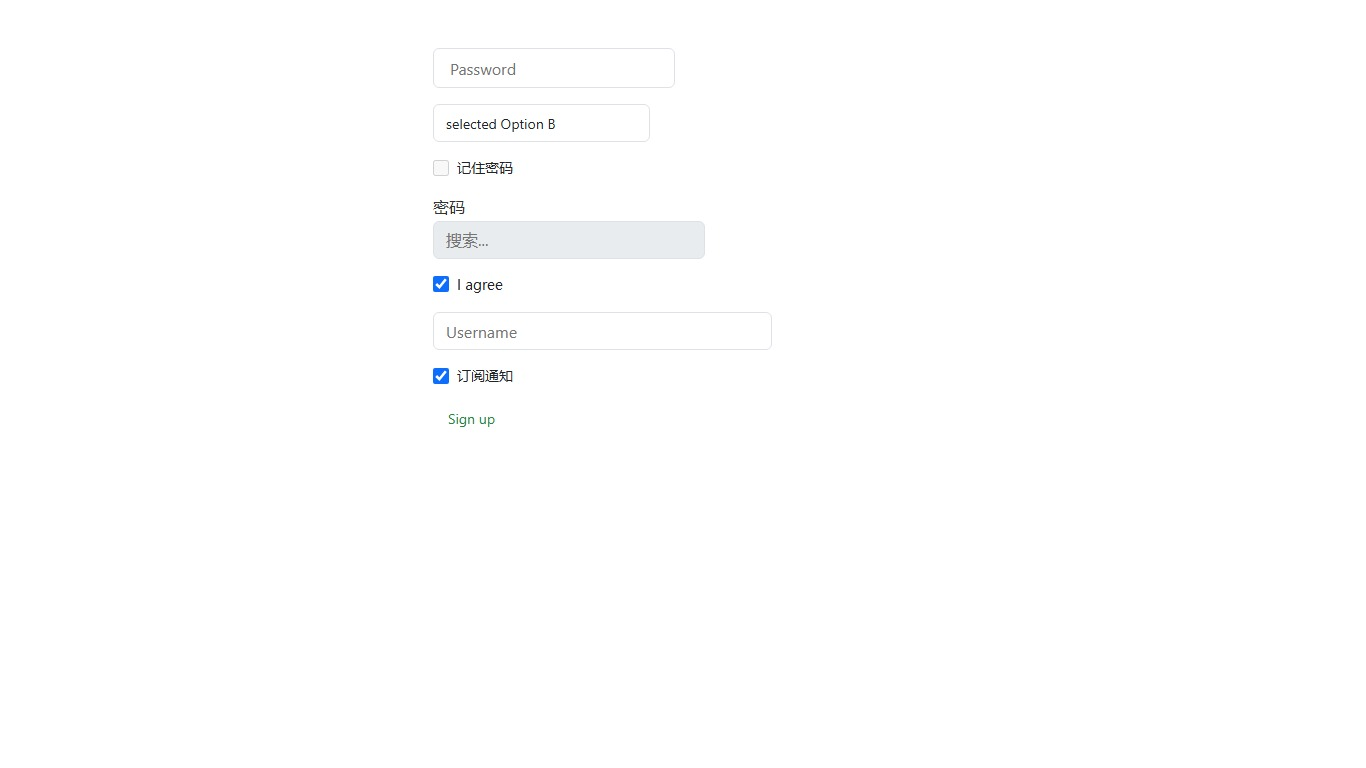button: (433, 404, 510, 433)
checkbox: (433, 276, 449, 292), (433, 367, 449, 383), (433, 160, 449, 175)
icon: (457, 158, 513, 177), (457, 366, 513, 385), (457, 275, 503, 294)
input: (433, 312, 772, 350), (433, 221, 705, 258), (433, 48, 675, 88)
radio: (433, 158, 513, 177), (433, 366, 513, 385), (433, 275, 503, 294)
select: (433, 104, 650, 142)
